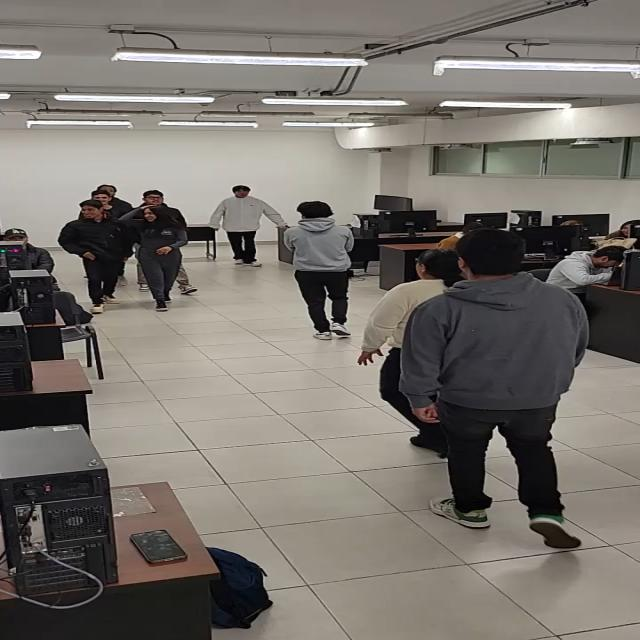Persona: (397, 226, 590, 551), (357, 249, 462, 460), (282, 200, 358, 342), (57, 199, 135, 313), (203, 184, 295, 267), (131, 206, 190, 312), (86, 189, 129, 221), (132, 189, 176, 208)
